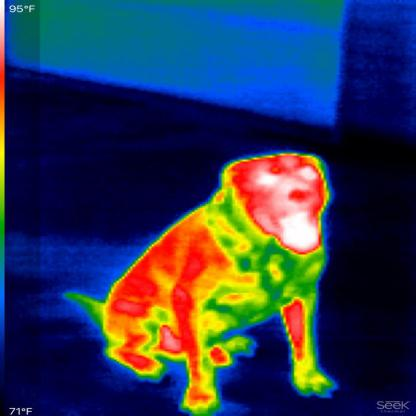dog: (55, 150, 344, 412)
